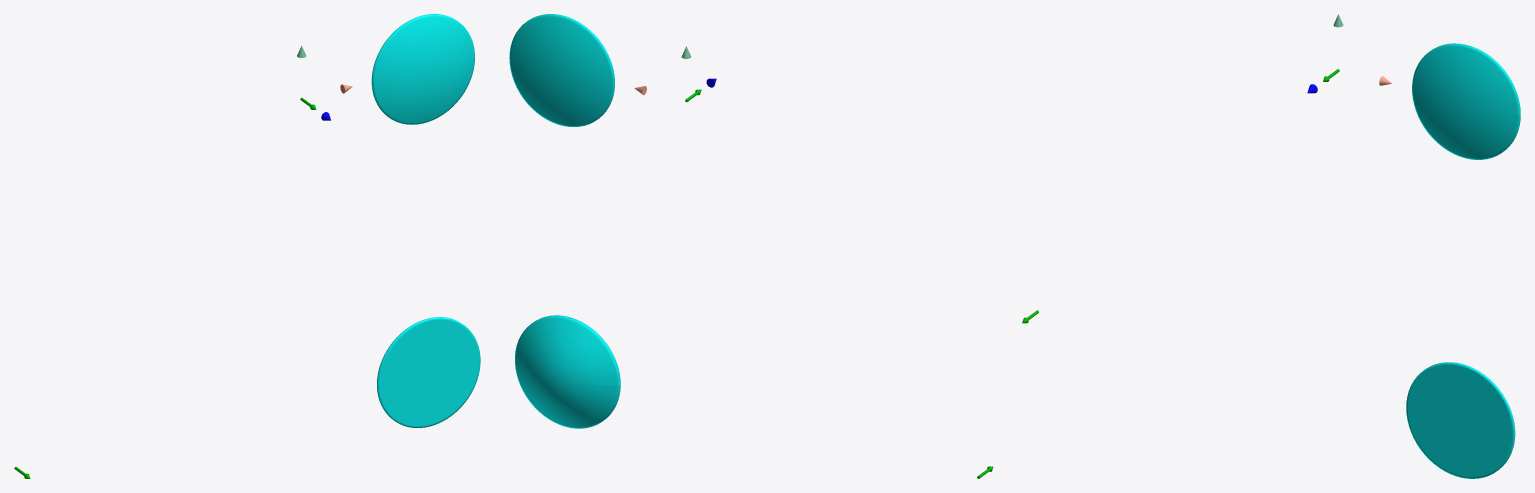
The picture shows the model from 3 angles, left to right: view 1: azimuth 30°, elevation 25°; view 2: azimuth 150°, elevation 25°; view 3: azimuth 330°, elevation 25°; orthographic projection. The views are drawn at different scales.
Visible parts, largest first — view 1: Renderer Node; view 2: Renderer Node; view 3: Renderer Node.
Boxes of the visible parts, x1=… form: Renderer Node: x1=14, y1=14, x2=480, y2=478; Renderer Node: x1=509, y1=14, x2=993, y2=478; Renderer Node: x1=1022, y1=43, x2=1520, y2=478.
Bounding box in the file's own units: 8.99 × 7.57 × 1.2.
